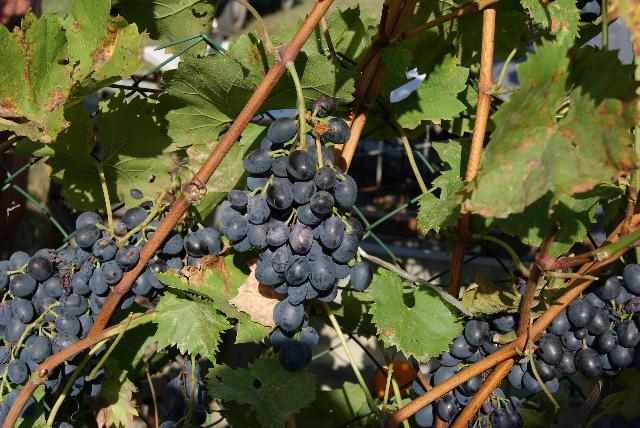grapes: (221, 119, 372, 370), (0, 204, 160, 426), (508, 264, 640, 400), (431, 311, 519, 386)
